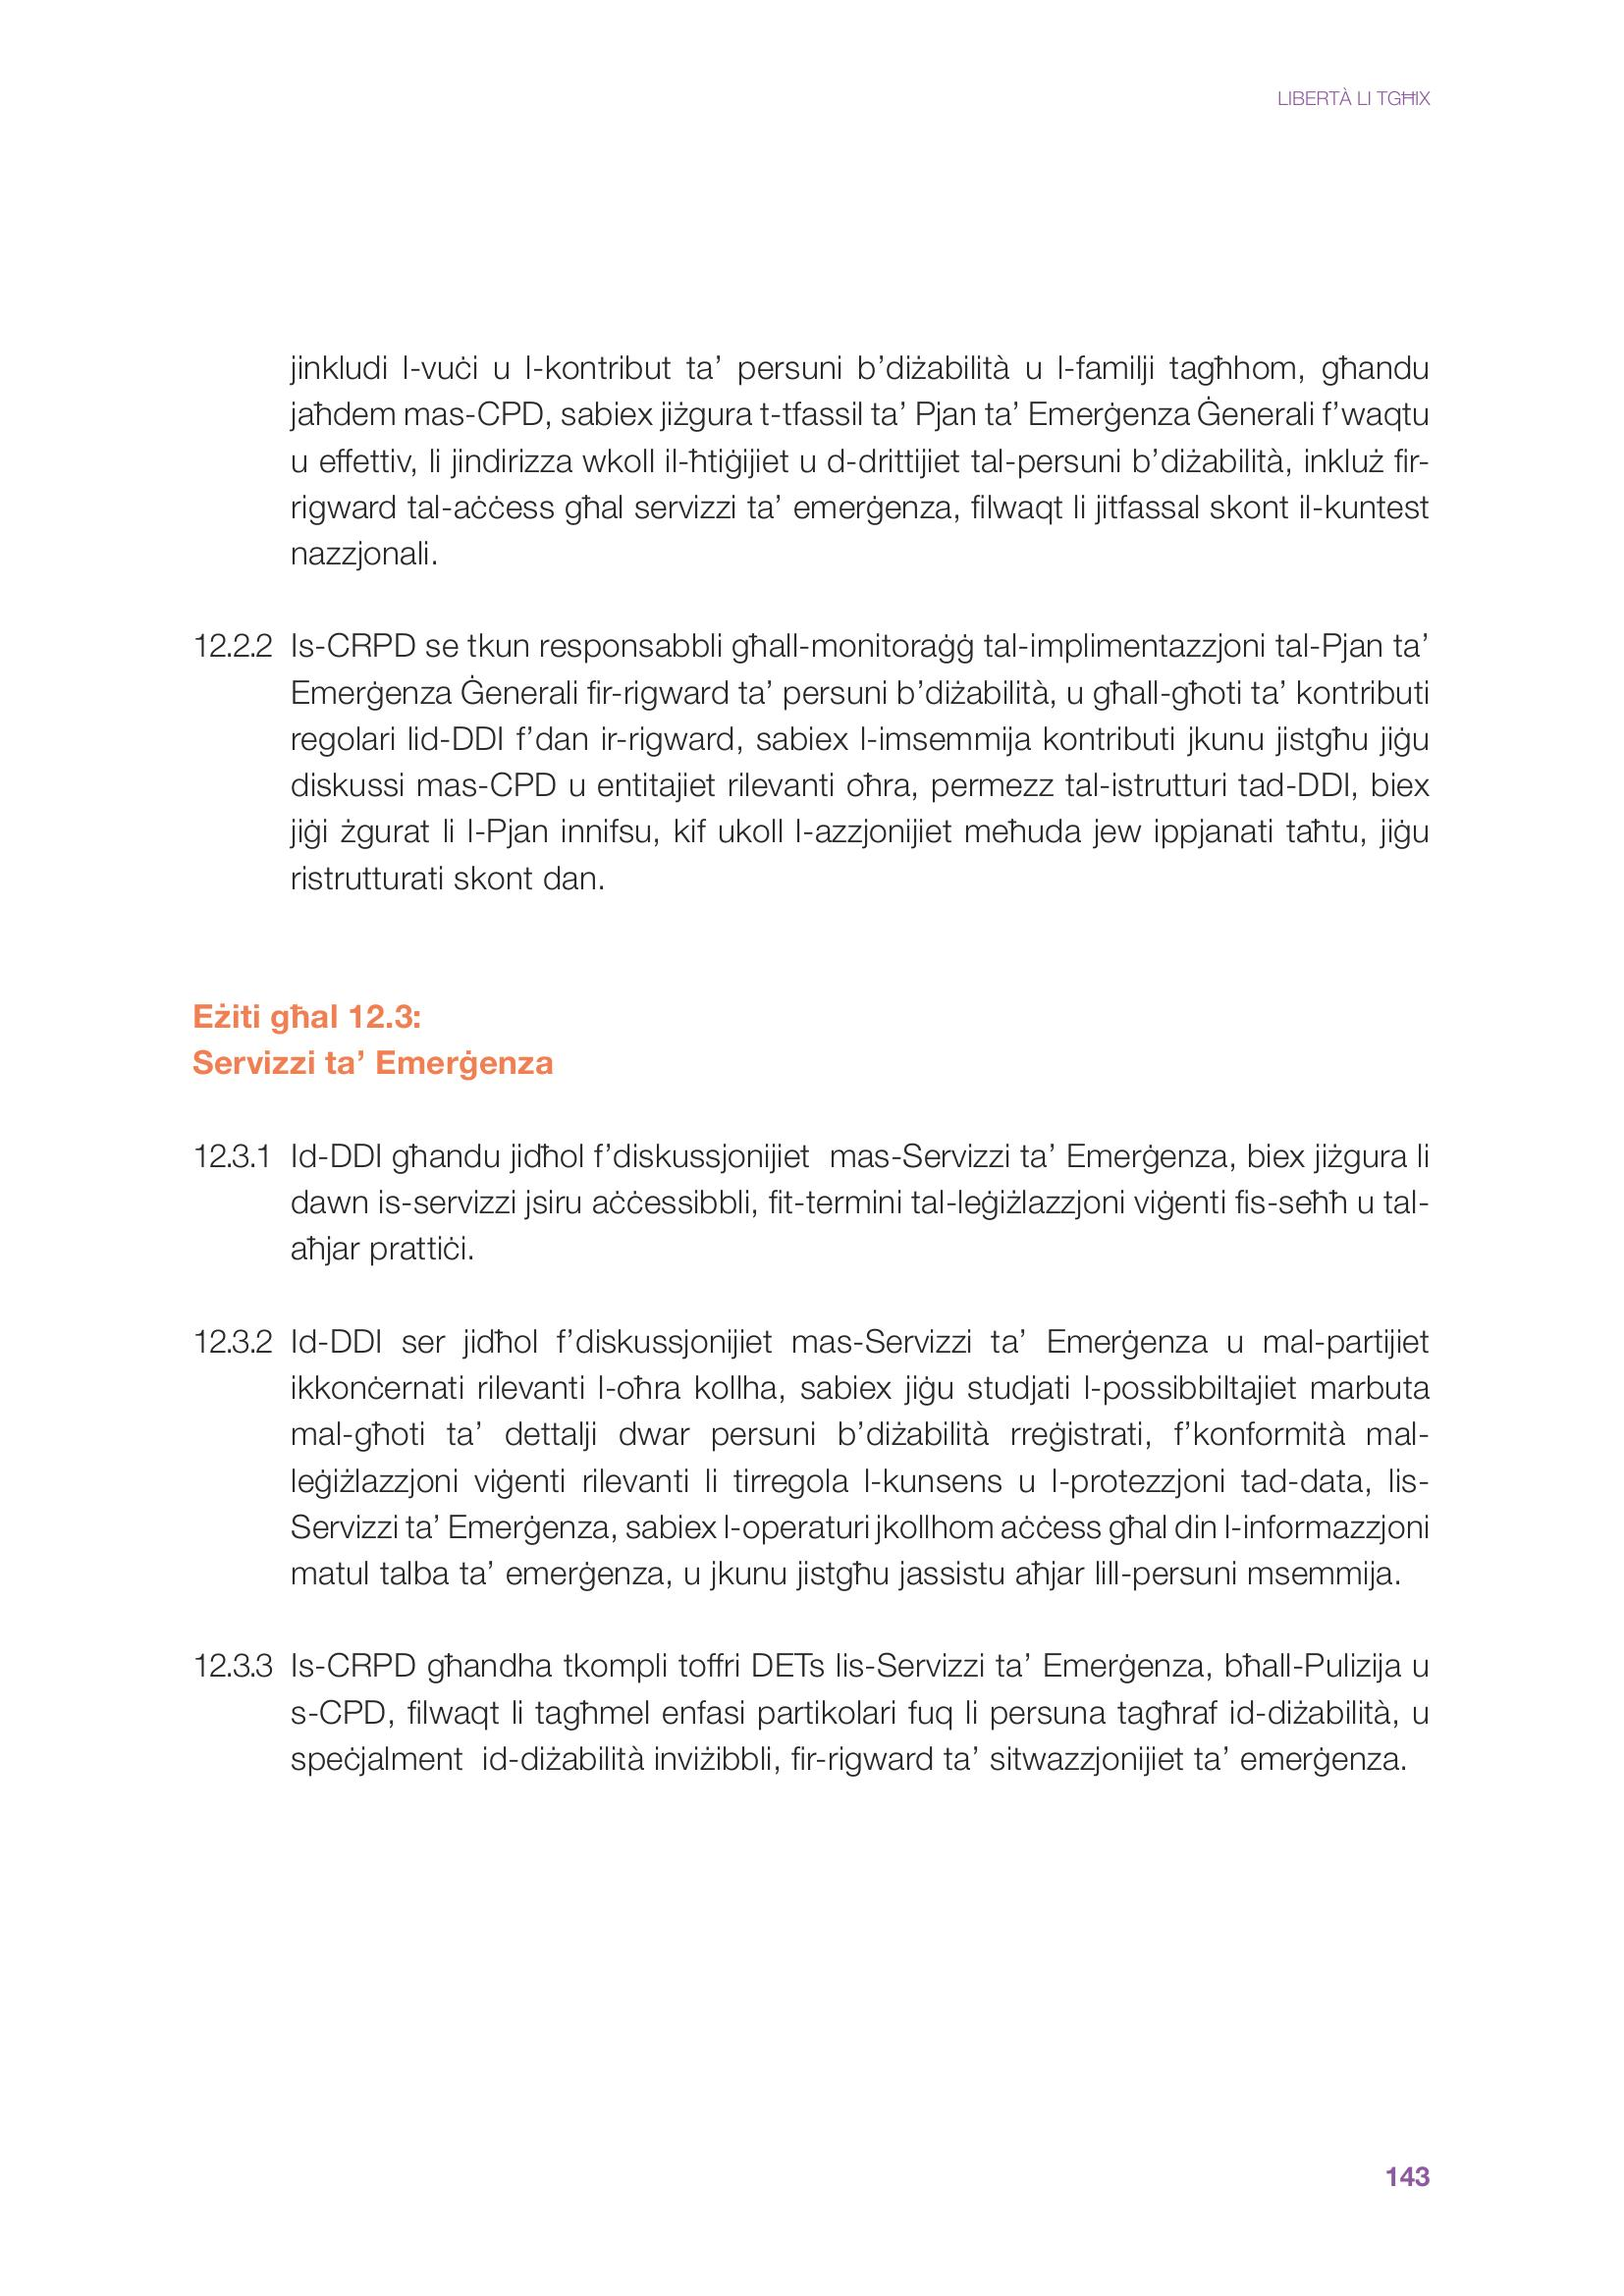text: (165, 323, 1452, 1808)
